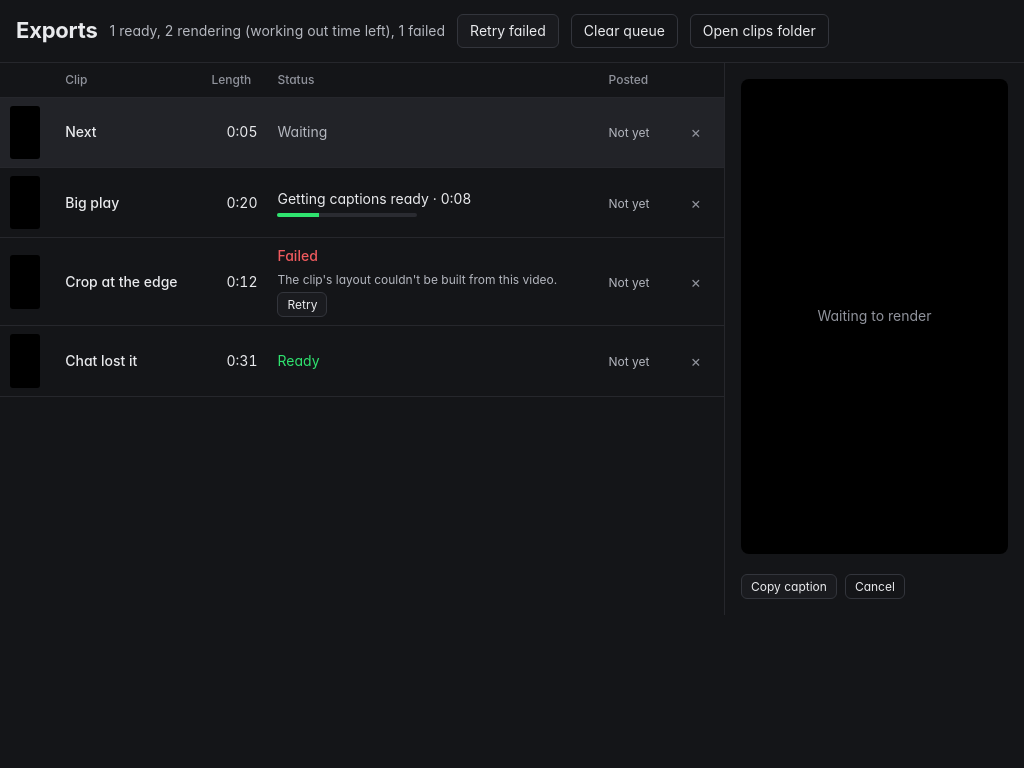
Test: Exports › clears the queue after asking: waiting renders cancelled, the files kept
Click the button with test id "clear-queue".
click(624, 31)  # box top-left (571, 14), bottom-right (678, 48)
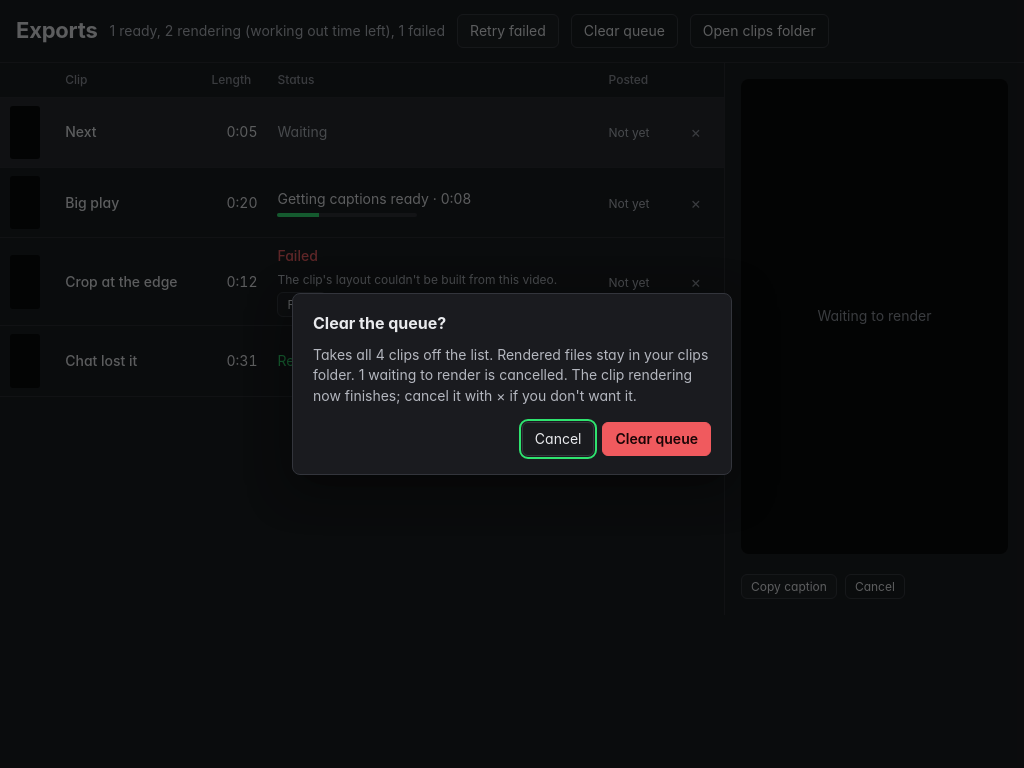
Result: the dialog shows "all 4 clips off the list. Rendered files stay" at top-left (313, 346), bottom-right (708, 404)
Result: the dialog shows "1 waiting to render is cancelled" at top-left (313, 346), bottom-right (708, 404)
Result: the dialog shows "The clip rendering now finishes" at top-left (313, 346), bottom-right (708, 404)
Click the button with test id "confirm-no".
click(558, 439)  # box top-left (522, 422), bottom-right (594, 456)
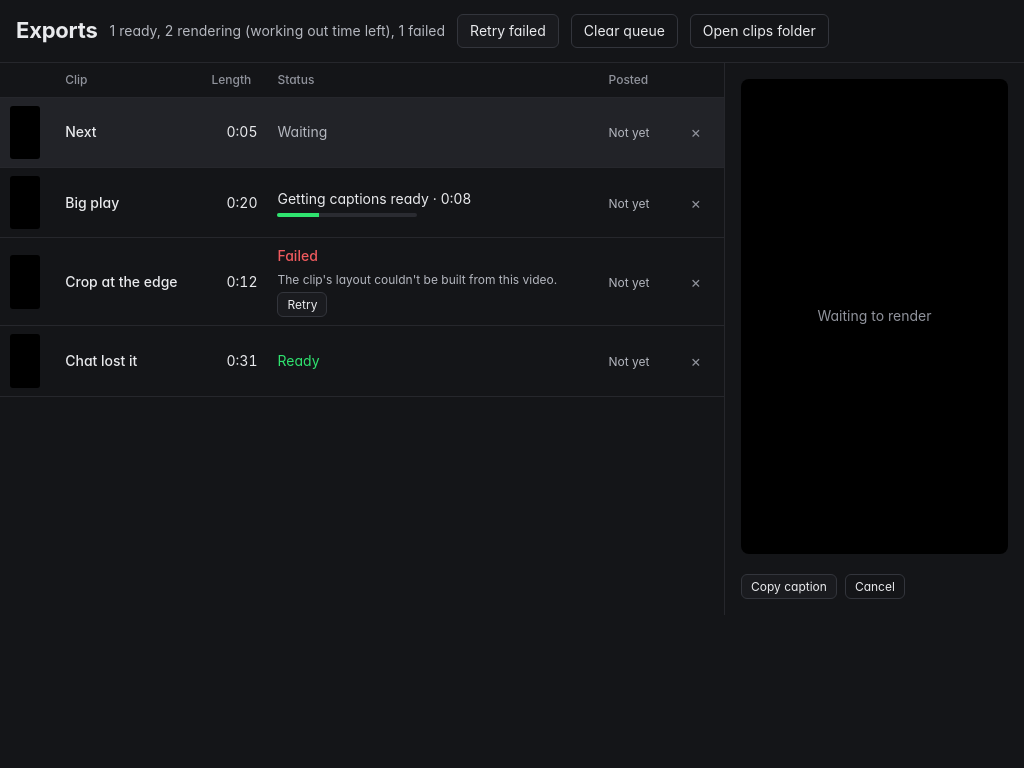
Click the button with test id "clear-queue".
click(624, 31)  # box top-left (571, 14), bottom-right (678, 48)
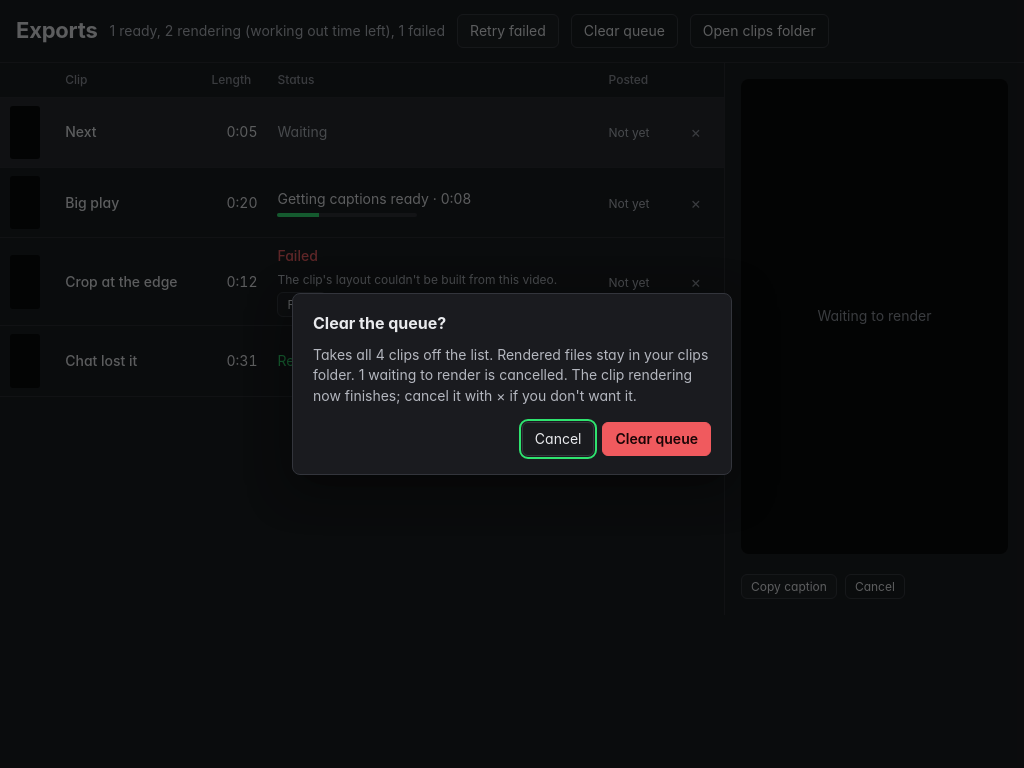
Click the button with test id "confirm-yes".
click(657, 439)  # box top-left (602, 422), bottom-right (711, 456)
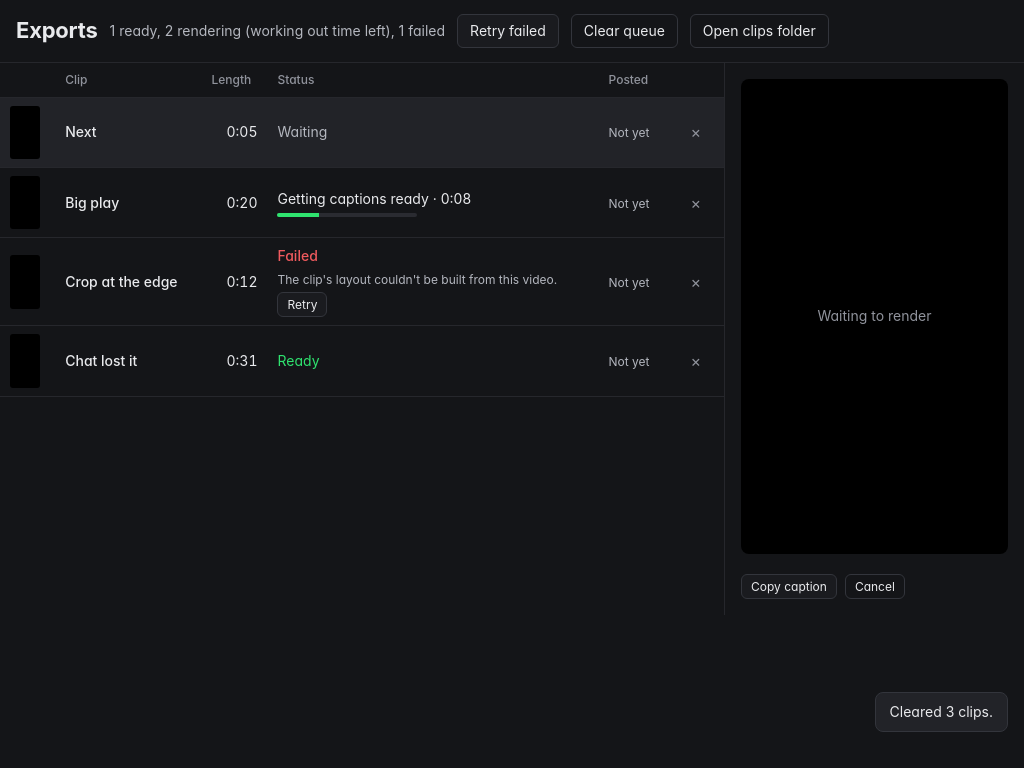
Result: the text "Cleared 3 clips." is shown at top-left (890, 702), bottom-right (993, 722)
